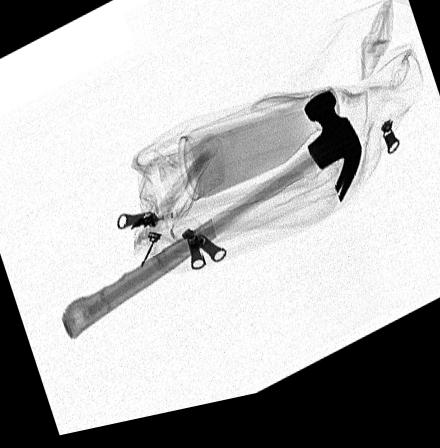Hammer: (58, 103, 362, 342)
